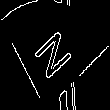N_SW: (32, 24, 78, 86)
